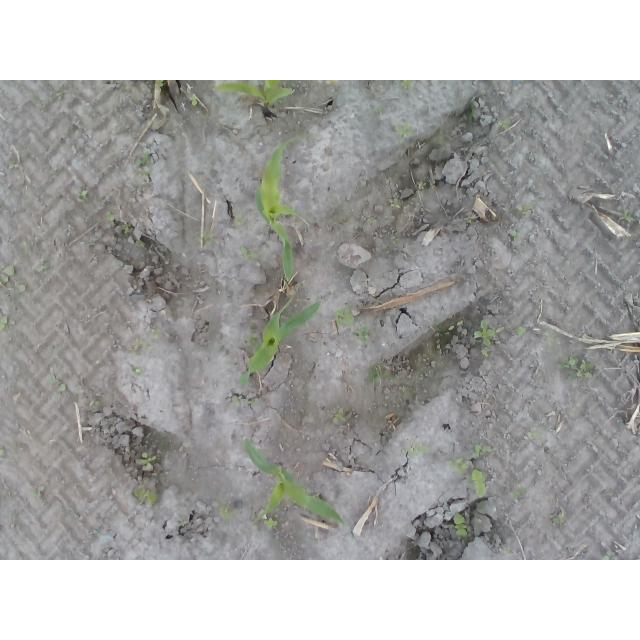Maize: (243, 437, 346, 527), (237, 300, 320, 384), (254, 138, 298, 283), (211, 80, 296, 110)
Weeds: (336, 302, 369, 346), (559, 351, 594, 385), (128, 328, 161, 359), (473, 318, 497, 359), (468, 467, 489, 498), (132, 486, 162, 506), (453, 512, 474, 539), (468, 439, 496, 458), (448, 457, 473, 476), (135, 451, 157, 472), (257, 509, 280, 529), (404, 440, 428, 459), (135, 151, 153, 176), (394, 122, 414, 144), (239, 243, 263, 261), (0, 264, 18, 287), (440, 320, 465, 336), (48, 372, 66, 392), (368, 363, 384, 385), (231, 394, 255, 408), (328, 407, 346, 425), (512, 320, 529, 337), (511, 485, 530, 500), (518, 200, 534, 217), (219, 503, 234, 521), (195, 231, 217, 242), (467, 103, 478, 125), (31, 480, 45, 497), (121, 223, 136, 238), (553, 512, 566, 528), (33, 260, 48, 273), (16, 284, 32, 296), (23, 239, 33, 257), (622, 209, 634, 224), (527, 431, 545, 441), (401, 80, 414, 93), (498, 118, 511, 131), (102, 211, 114, 225), (388, 197, 402, 209), (288, 81, 299, 96), (74, 190, 89, 201), (31, 96, 49, 105), (232, 215, 248, 225), (0, 318, 12, 331), (247, 334, 258, 348), (600, 552, 617, 561), (89, 399, 103, 409), (6, 159, 18, 169), (368, 215, 380, 225), (130, 367, 142, 377), (190, 95, 200, 106), (319, 80, 337, 86), (176, 519, 188, 528), (55, 87, 65, 97), (374, 104, 385, 113), (510, 230, 518, 242), (391, 232, 399, 244), (135, 240, 145, 249), (416, 181, 426, 190), (541, 329, 551, 338), (281, 314, 288, 326), (468, 215, 476, 225), (95, 528, 103, 537), (474, 536, 481, 544), (159, 81, 165, 88), (329, 92, 337, 97), (0, 447, 4, 456)
